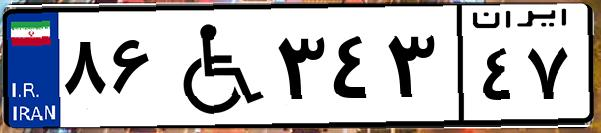3: (270, 28, 330, 110), (385, 28, 445, 110)
4: (330, 28, 385, 110), (475, 38, 525, 113)
6: (110, 28, 158, 98)
7: (525, 38, 570, 115)
8: (57, 26, 110, 100)
ژ (معلولین و جانبازان): (158, 12, 270, 120)
